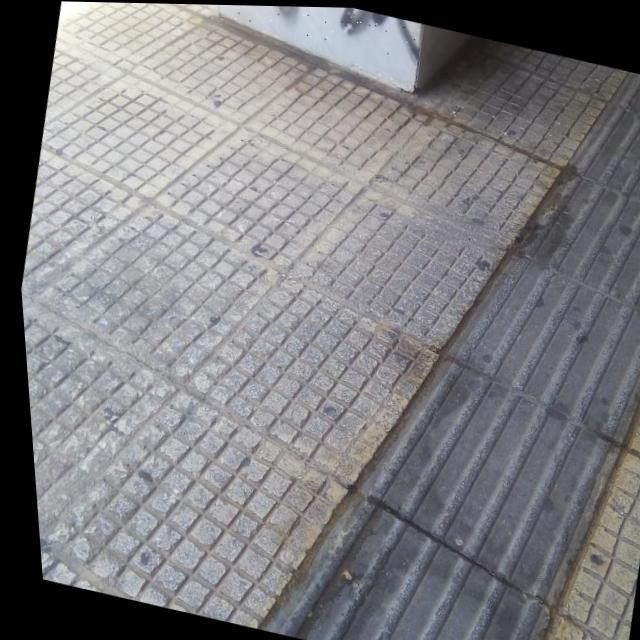-: (193, 4, 424, 59)
